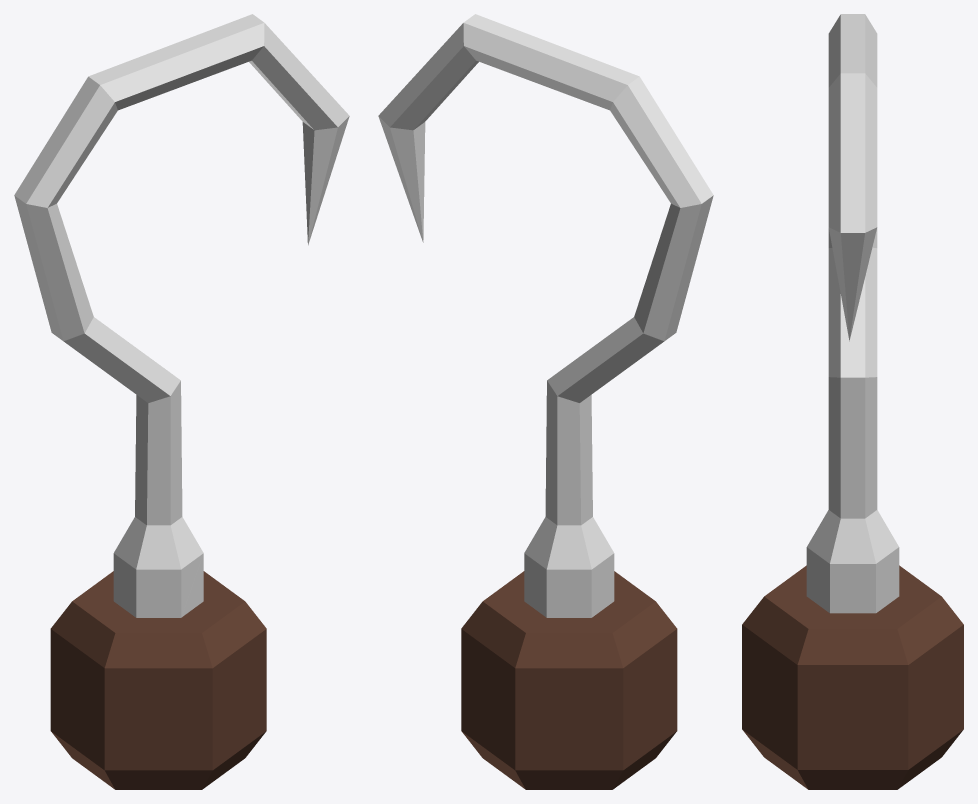
File: Hook.fbx
3 views of the same model, side by side, from view 1: azimuth 30°, elevation 25°; view 2: azimuth 150°, elevation 25°; view 3: azimuth 270°, elevation 25° (orthographic). The views are drawn at different scales.
Visible parts, largest first — view 1: Hook; view 2: Hook; view 3: Hook.
Part boxes in pixels (<box>): Hook: <box>14,14,349,789</box>; Hook: <box>378,14,713,789</box>; Hook: <box>742,14,963,789</box>.
Bounding box in the file's own units: 0.2808 × 0.5934 × 0.1625.
